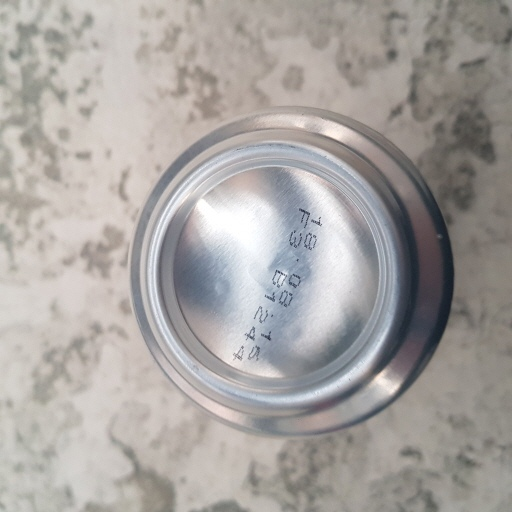Metal_0: (128, 109, 457, 437)
